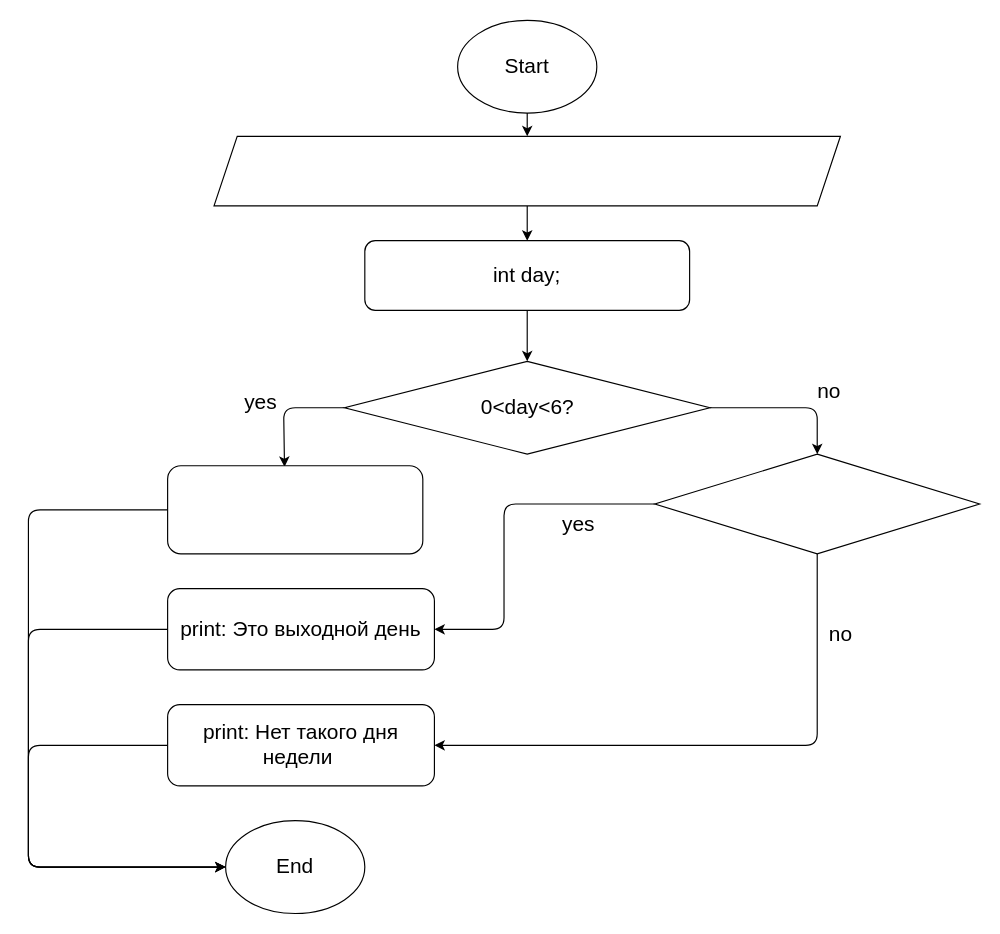
Some shapes in this 1000 by 934 pixel diagram are drawn without their labels. The shapes that lost their labels are listed below. From the top down, each one's centre as x and y in pixels, then its label:
At (526,170): "Введите цифру, обозначающую день недели".
At (294,509): "print: Это рабочий день".
At (817,503): "6<=day<8?".
